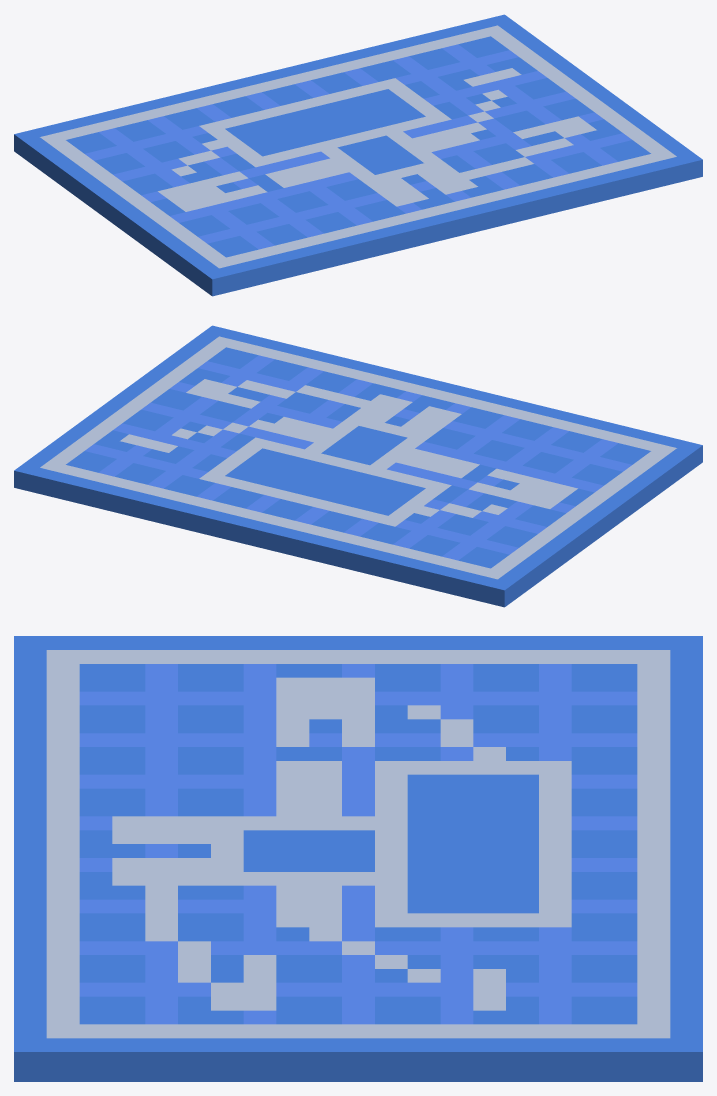
File: open blueprint.obj
The picture shows the model from 3 angles, top to bottom: view 1: azimuth 30°, elevation 25°; view 2: azimuth 150°, elevation 25°; view 3: azimuth 270°, elevation 25°; orthographic projection. The views are drawn at different scales.
Size of the model in its own units: 3 by 0.1 by 2.1.
Materials: 1 (1 with a texture image).
